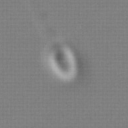normal: (24, 1, 60, 44)
